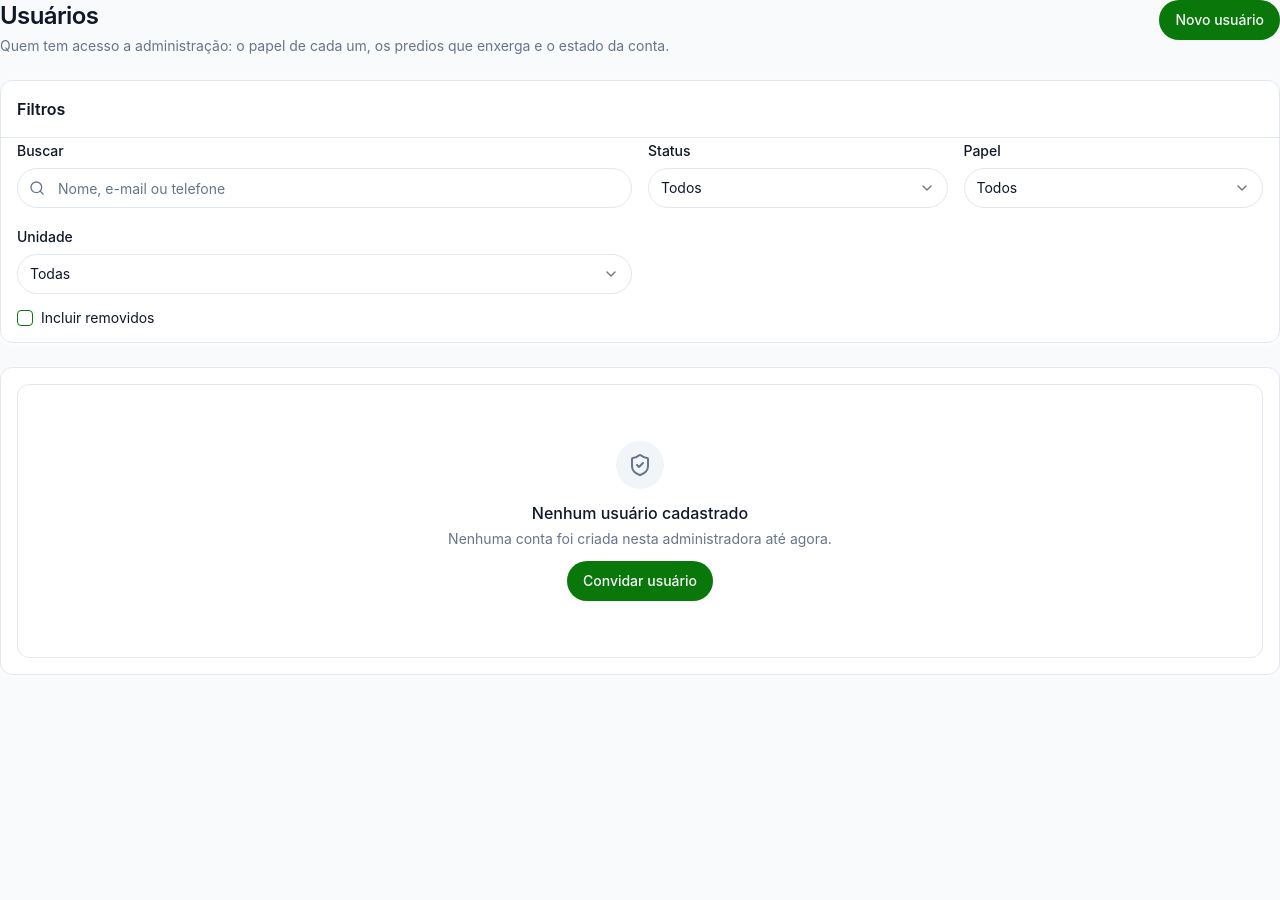
Cadastro de usuário › o aviso de escopo de condomínio não existe nesta tela
The image size is (1280, 900).
Expected: the text "Nenhum usuário cadastrado" is shown, [532,503,748,523]
Click the button "Novo usuário". click: (1220, 20)
box: [1159,0,1279,40]
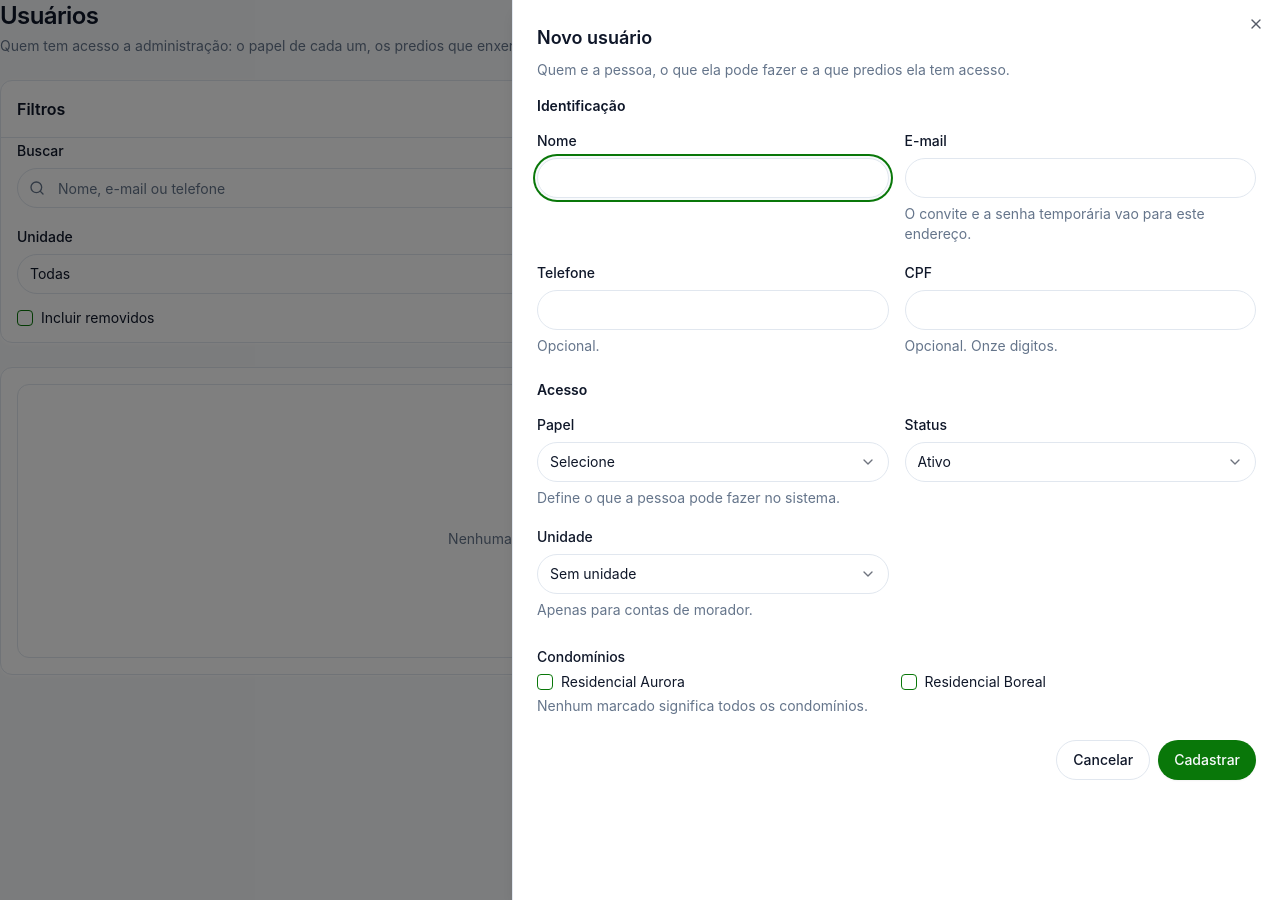
Result: the field labelled "Nome" is shown at [537,158,888,198]
